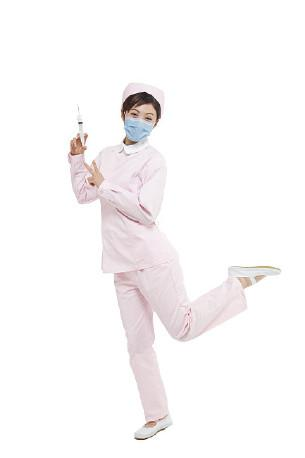OK: (123, 108, 158, 143)
